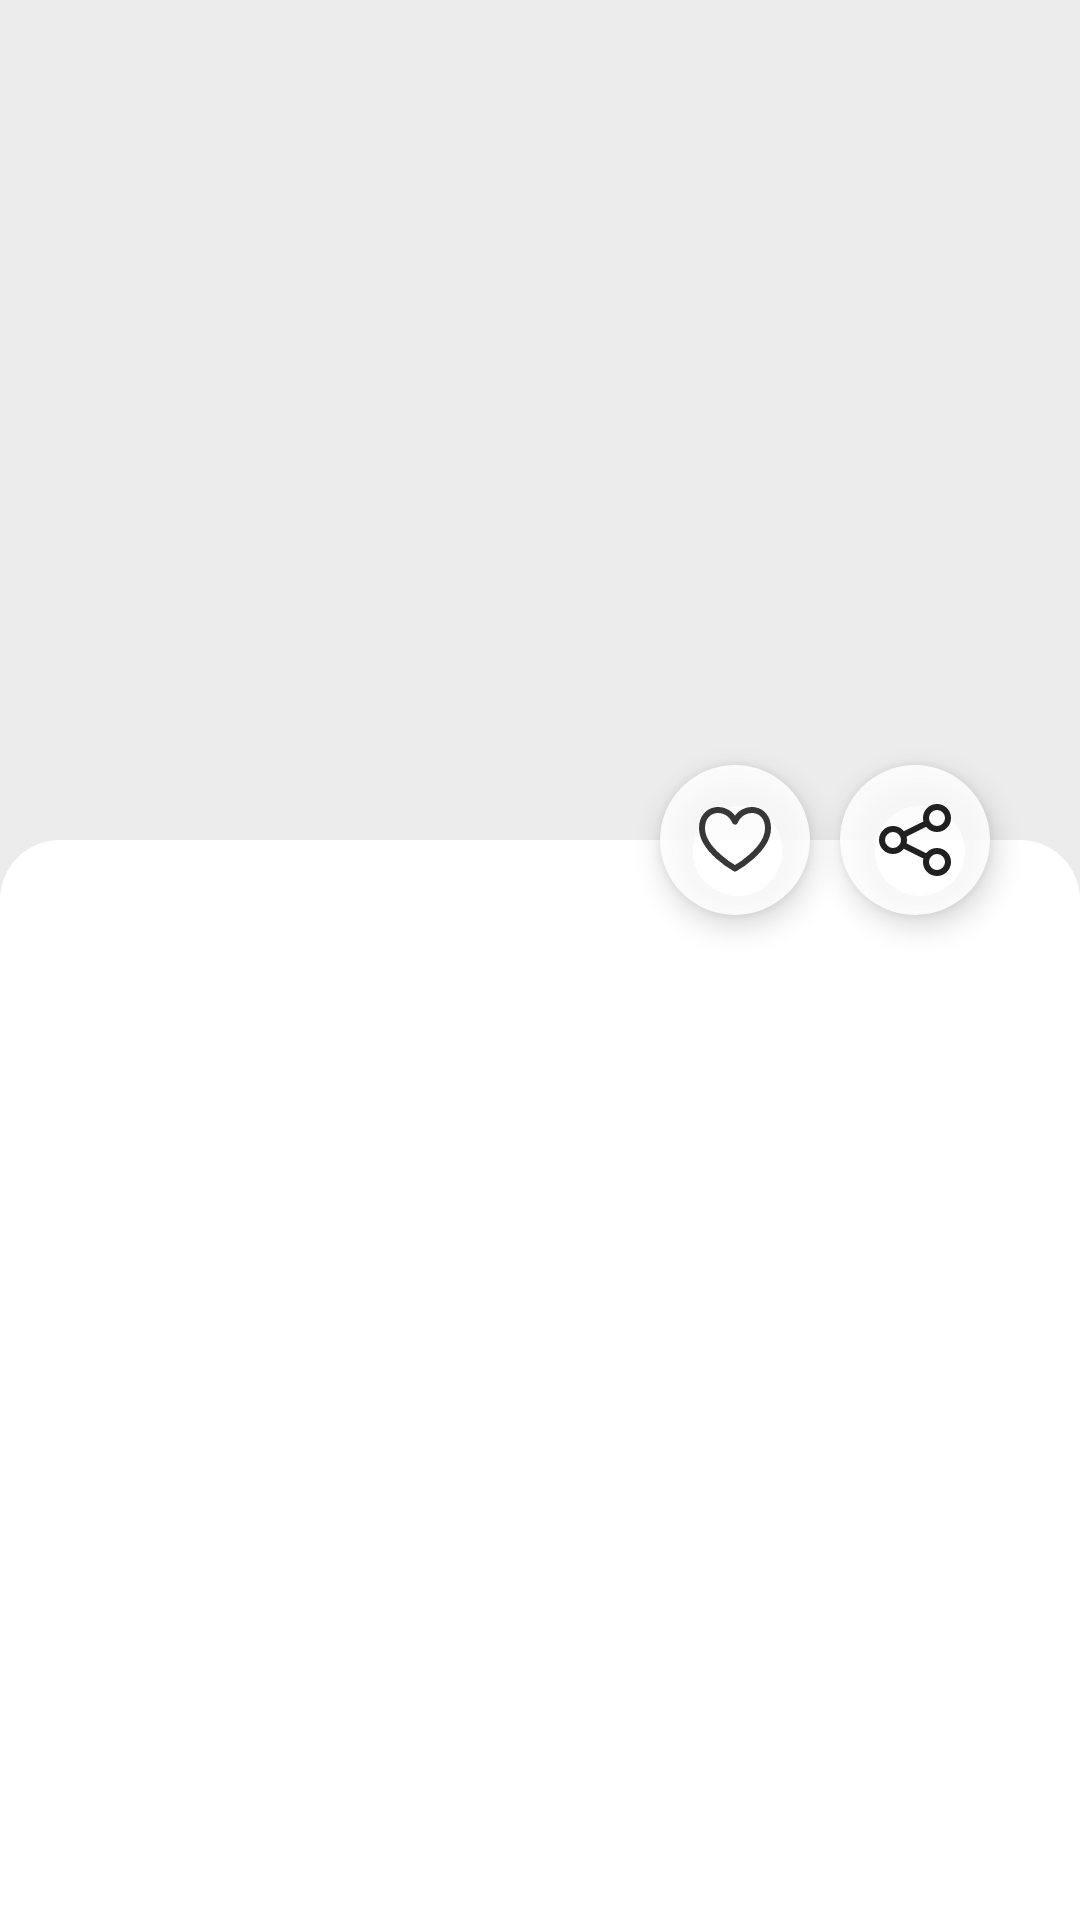

Screen size 1080 x 1920. Icon name, then its center in pixels as (x,y):
heart: (735,840)
share: (915,840)
